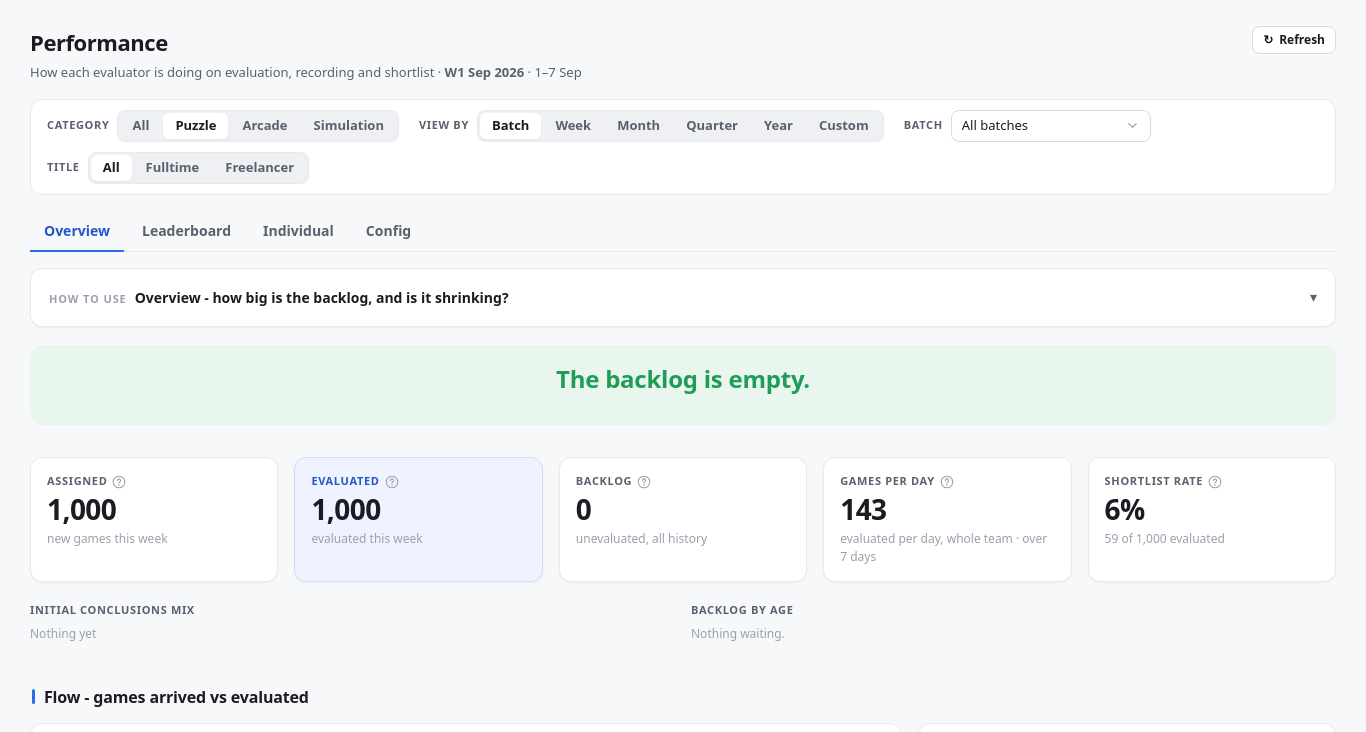
Test: alert rules: a saved rule moves the tab › judges a shortlist rate at the default 50 games
This screenshot has width=1366, height=732.
Click the button "Individual" at point(298, 231), box [249,210,348,252]
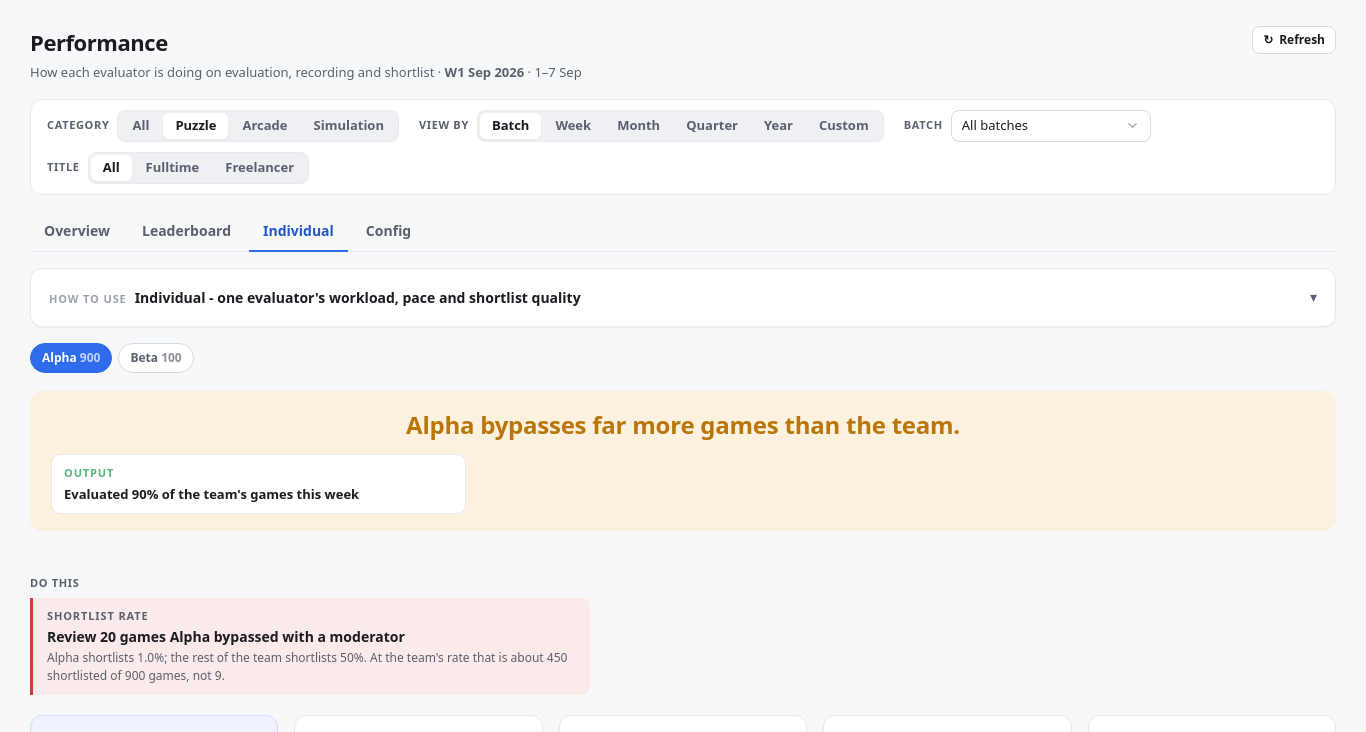
Expected: the text with class "rp-headline" reads "Alpha bypasses far more games than the team.", [406,408,960,440]
